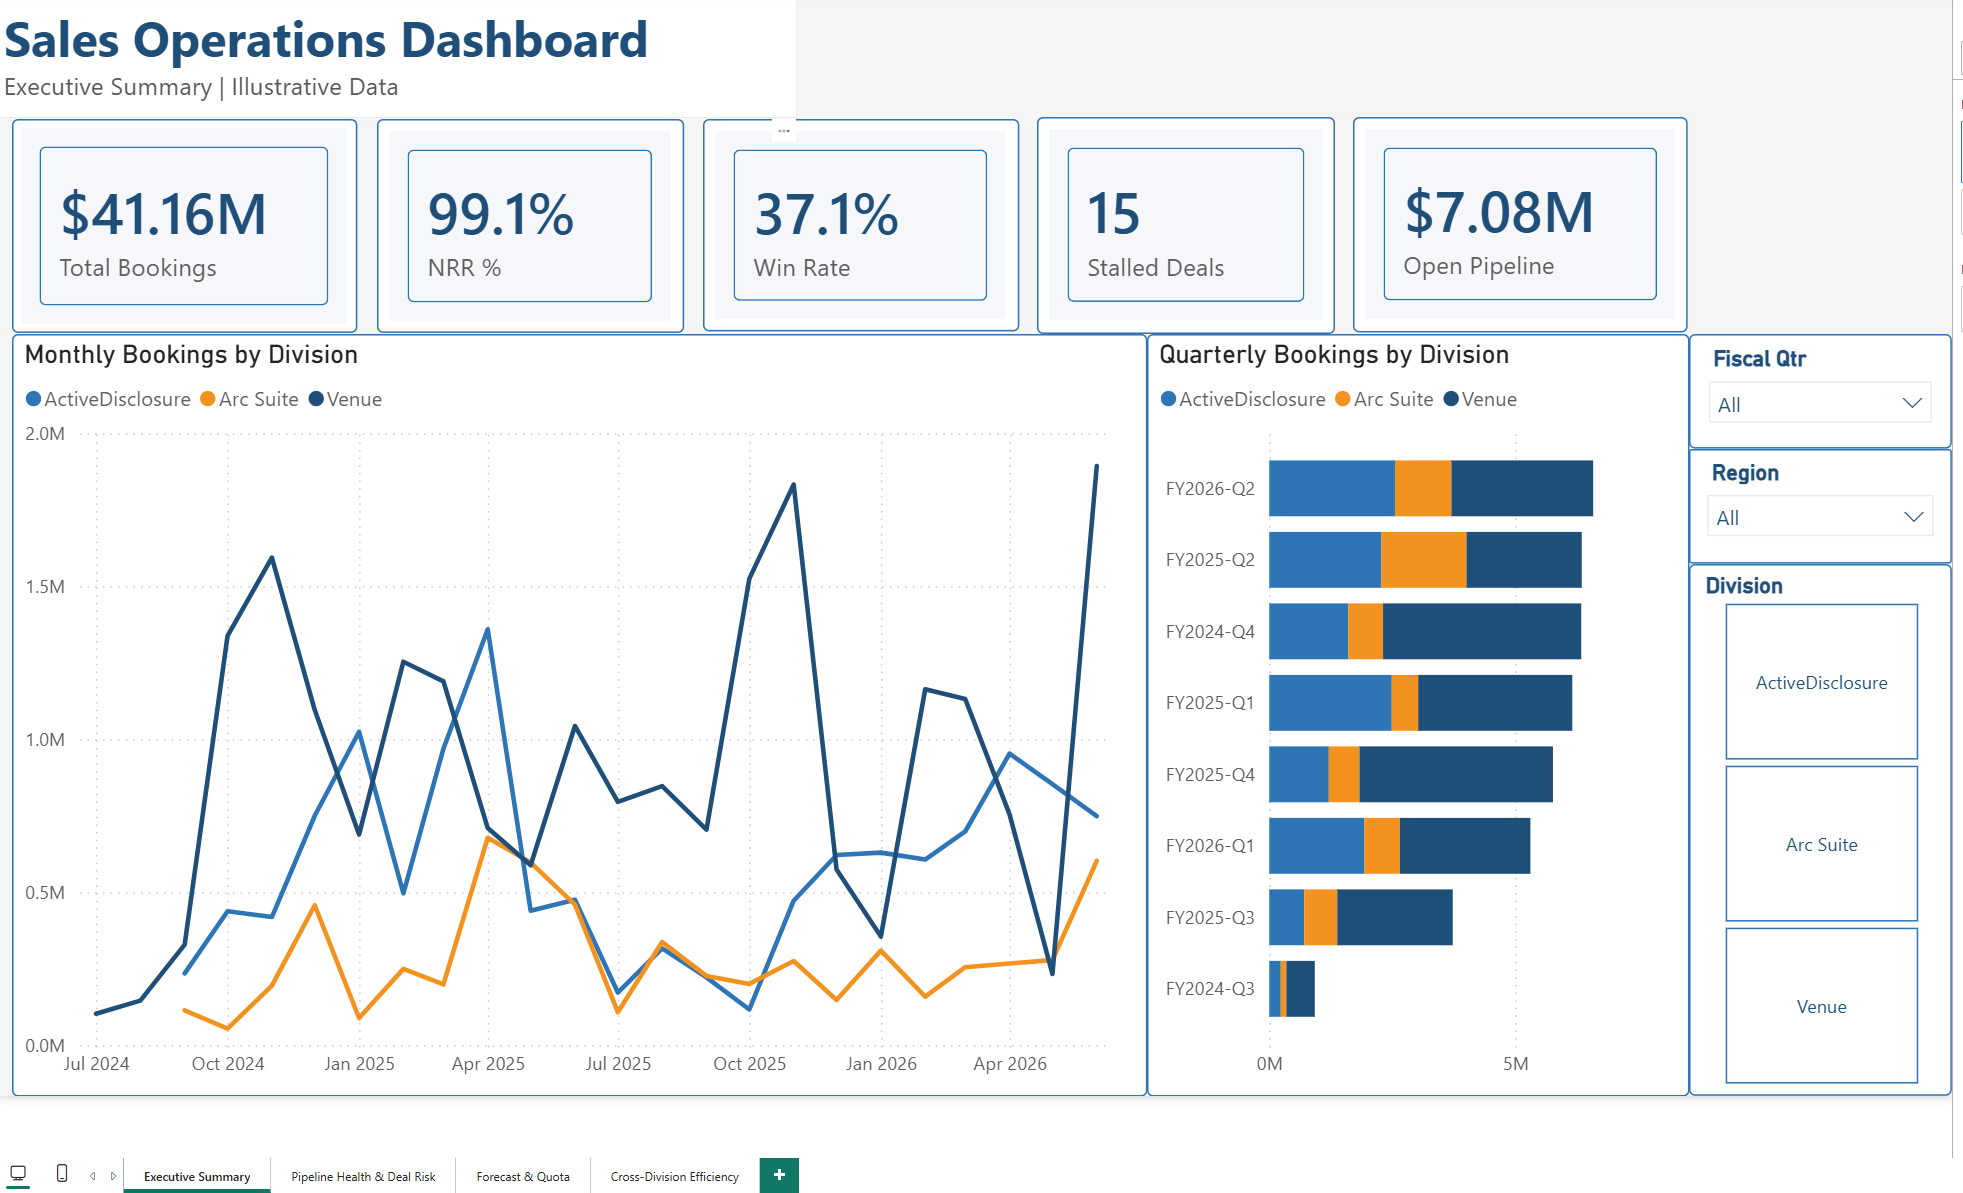

The dashboard page shown, as its layout file describes it:
{"tool":"powerbi","page":{"name":"Executive Summary","canvas":[1280,720],"ordinal":0},"visuals":[{"type":"cardVisual","fields":{"Data":["_Measures.Total Bookings"]},"box":[10.3,80.7,225.9,140.1],"z":0},{"type":"cardVisual","fields":{"Data":["_Measures.Win Rate"]},"box":[462.9,80.7,206.9,139.4],"z":1000},{"type":"cardVisual","fields":{"Data":["_Measures.Open Pipeline"]},"box":[888.3,79.2,219.3,140.8],"z":2000},{"type":"cardVisual","fields":{"Data":["_Measures.Stalled Deals"]},"box":[681.4,79.2,195.1,141.6],"z":3000},{"type":"cardVisual","fields":{"Data":["_Measures.NRR %"]},"box":[249.4,80.7,201,140.1],"z":4000},{"type":"textbox","box":[0,0,524.2,79.8],"z":5000},{"type":"lineChart","title":"Monthly Bookings by Division","fields":{"Y":["_Measures.Total Bookings"],"Series":["opportunities.division"],"Category":["opportunities.close_date.Variation.Date Hierarchy.Year","opportunities.close_date.Variation.Date Hierarchy.Month"]},"box":[10.4,220.9,742.9,498.7],"z":7000},{"type":"barChart","title":"Quarterly Bookings by Division","fields":{"Y":["_Measures.Total Bookings"],"Series":["opportunities.division"],"Category":["opportunities.fiscal_quarter"]},"box":[753.3,220.9,354.6,498.7],"z":8000},{"type":"slicer","fields":{"Values":["quarter_dim.fiscal_quarter"]},"box":[1107.9,220.9,172.1,75.2],"z":9000},{"type":"slicer","fields":{"Values":["opportunities.division"]},"box":[1107.9,371.4,172.1,348.2],"z":10000},{"type":"slicer","fields":{"Values":["accounts.region"]},"box":[1107.9,296.2,172.1,75.2],"z":11000}]}

Visuals, with their boxes on the page's 1280x720 design canvas (x1, y1, x2, y2). These are canvas units, not pixel positions in the 1963x1193 screenshot, which may show the page scaled, cropped or inside an application window:
cardVisual - _Measures.Total Bookings: left=10, top=81, right=236, bottom=221
cardVisual - _Measures.Win Rate: left=463, top=81, right=670, bottom=220
cardVisual - _Measures.Open Pipeline: left=888, top=79, right=1108, bottom=220
cardVisual - _Measures.Stalled Deals: left=681, top=79, right=876, bottom=221
cardVisual - _Measures.NRR %: left=249, top=81, right=450, bottom=221
textbox: left=0, top=0, right=524, bottom=80
"Monthly Bookings by Division" lineChart: left=10, top=221, right=753, bottom=720
"Quarterly Bookings by Division" barChart: left=753, top=221, right=1108, bottom=720
slicer - quarter_dim.fiscal_quarter: left=1108, top=221, right=1280, bottom=296
slicer - opportunities.division: left=1108, top=371, right=1280, bottom=720
slicer - accounts.region: left=1108, top=296, right=1280, bottom=371
